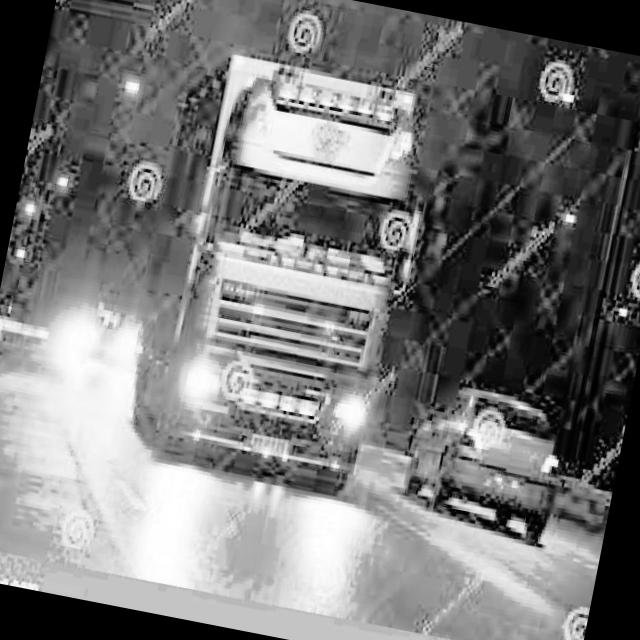Truck: (110, 39, 454, 502)
